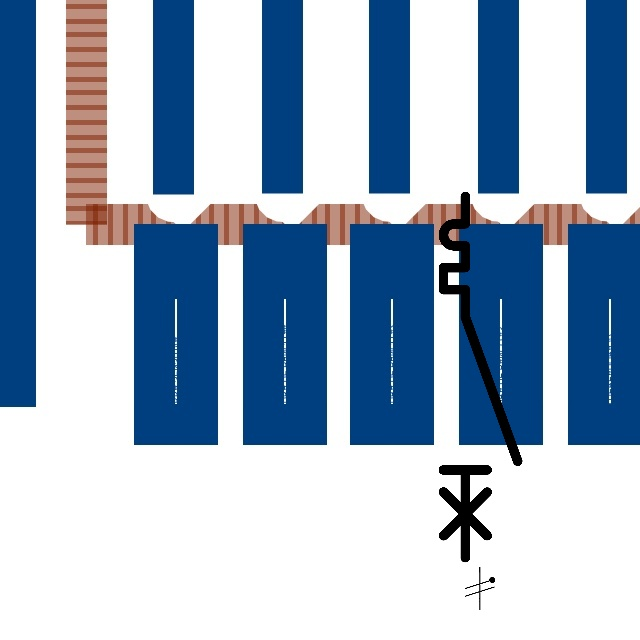interruptor_termomagnetico: (434, 187, 527, 566)
